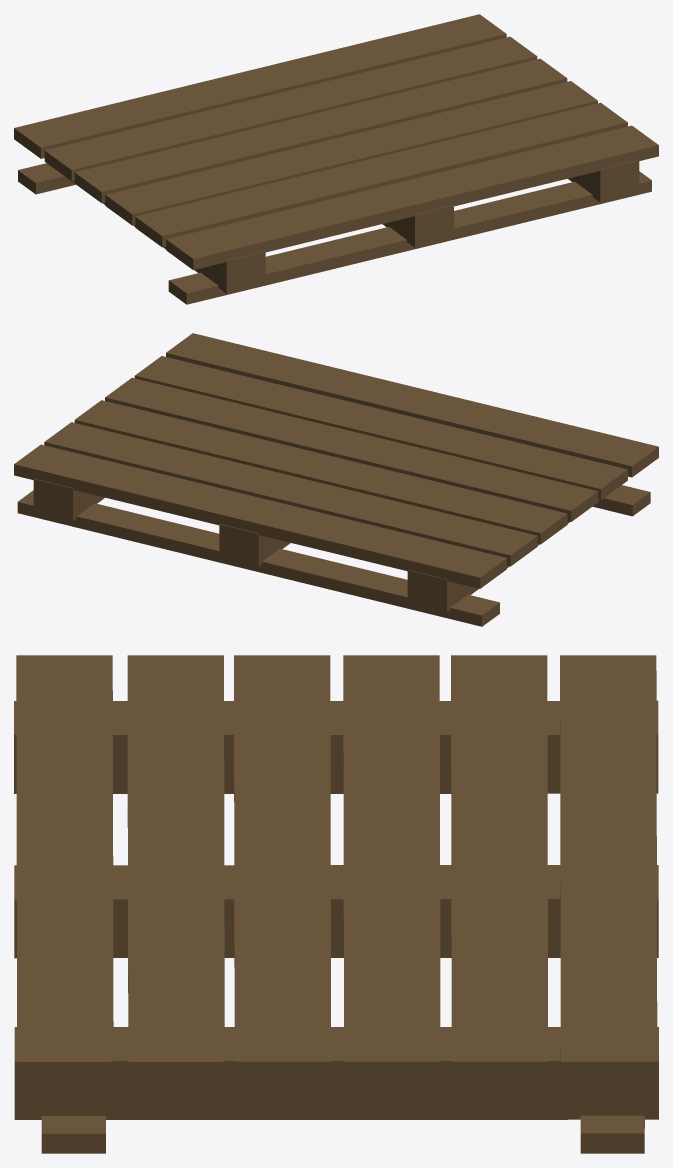
Rendered from WoodenCrate_1.fbx.
The picture shows the model from 3 angles, top to bottom: view 1: azimuth 30°, elevation 25°; view 2: azimuth 150°, elevation 25°; view 3: azimuth 270°, elevation 25°; orthographic projection. The views are drawn at different scales.
Visible parts, largest first — view 1: WoodenCrate_1; view 2: WoodenCrate_1; view 3: WoodenCrate_1.
Part boxes in pixels (x1,y1,x2,y2): WoodenCrate_1: [14, 14, 658, 304]; WoodenCrate_1: [14, 333, 658, 626]; WoodenCrate_1: [14, 655, 658, 1153].
Size of the model in its own units: 193 by 20.38 by 129.
